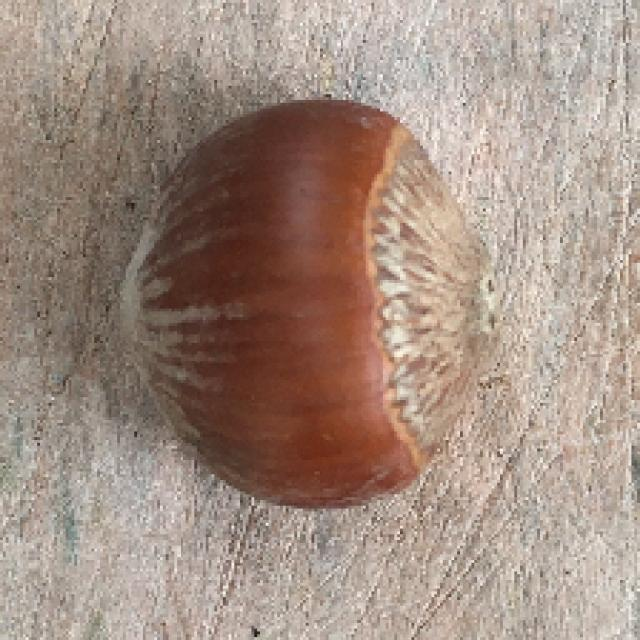damagedHazelnut: (129, 95, 498, 513)
